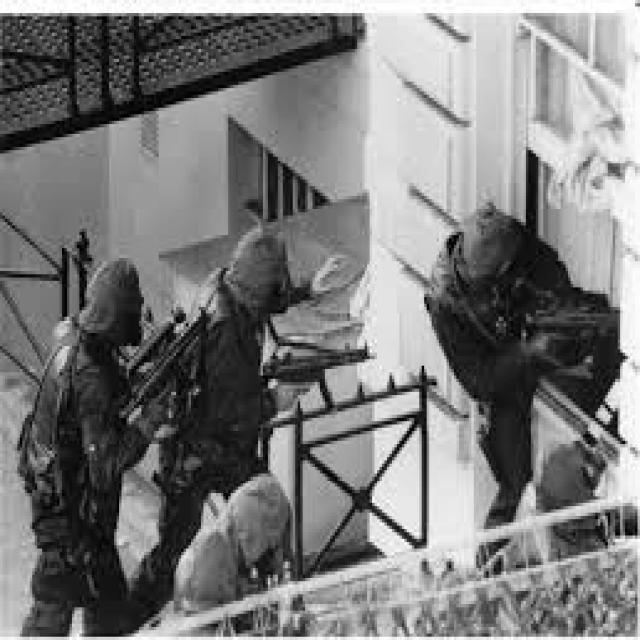gun: (105, 305, 209, 423), (250, 341, 370, 411), (524, 311, 620, 366)
